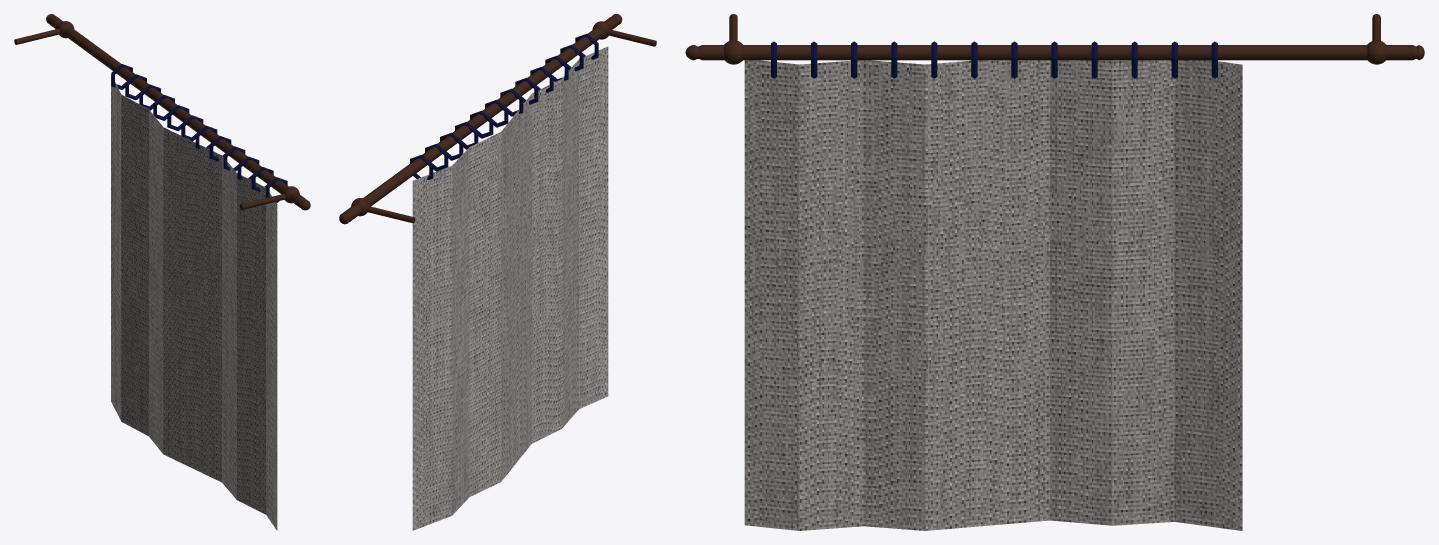
The model's file is Curtains.fbx.
The picture shows the model from 3 angles, left to right: view 1: azimuth 30°, elevation 25°; view 2: azimuth 150°, elevation 25°; view 3: azimuth 270°, elevation 25°; orthographic projection. The views are drawn at different scales.
Parts seen in each view (by area): view 1: Плоскость, Карниз, Тор.001; view 2: Плоскость, Карниз, Тор.001; view 3: Плоскость, Карниз, Тор.001.
Part boxes in pixels (box(x1,y1,x2,y2)): Плоскость: box(111, 74, 277, 530); Карниз: box(14, 14, 310, 210); Тор.001: box(111, 64, 287, 202); Плоскость: box(412, 46, 608, 530); Карниз: box(339, 14, 656, 224); Тор.001: box(410, 33, 598, 179); Плоскость: box(744, 60, 1242, 530); Карниз: box(685, 14, 1424, 64); Тор.001: box(771, 41, 1217, 78).
Size of the model in its own units: 162 by 884 by 1206.
